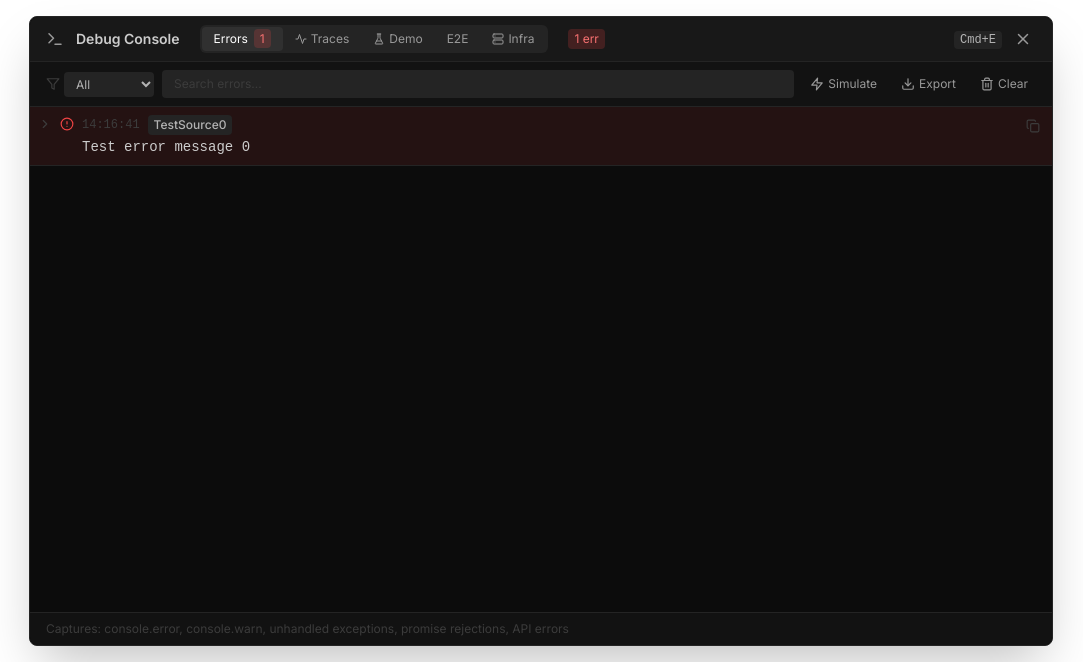
Test: ErrorConsole › Error Item › expands error details on click
Check: the text "URL:" is not shown
Click on the error item to expand
Click the text "Test error message 0" at coordinates (166, 147), box [82,139,250,155]
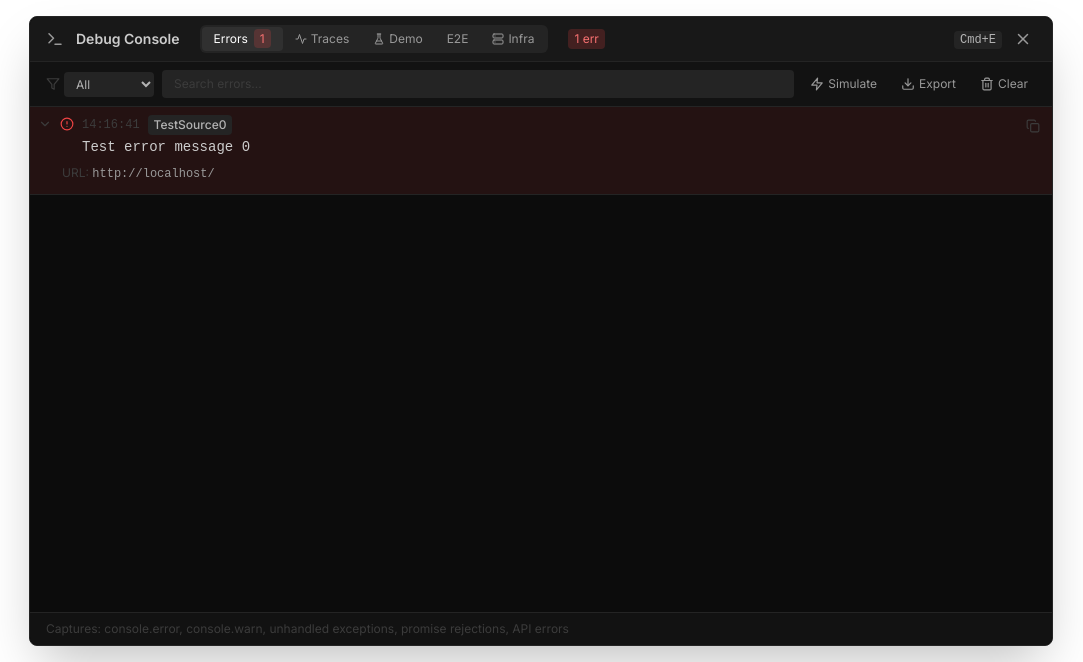
Check: the text "URL:" is shown, box [62,165,92,180]
